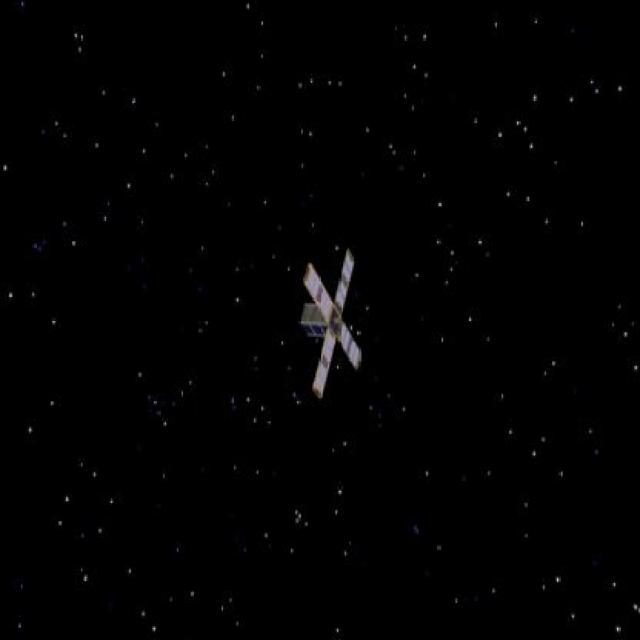medium_debris: (296, 252, 379, 400)
